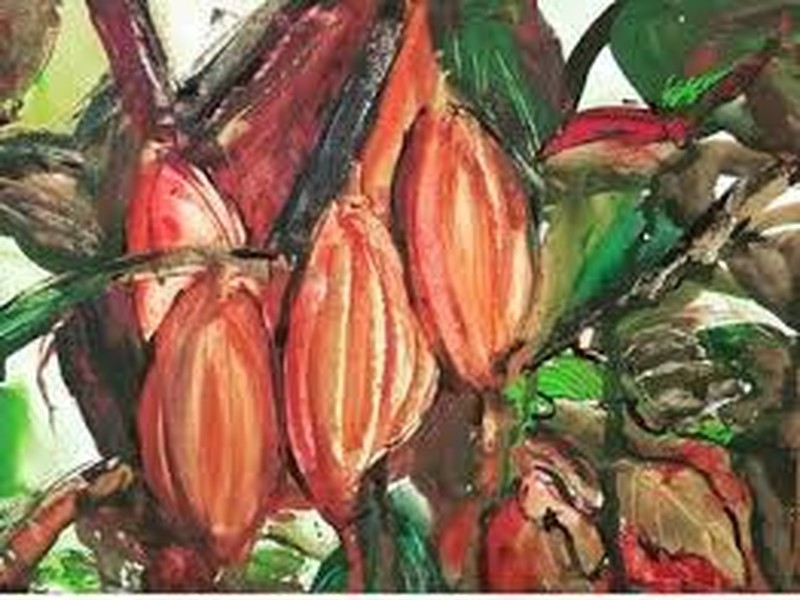Cacaopod: (393, 112, 541, 390)
